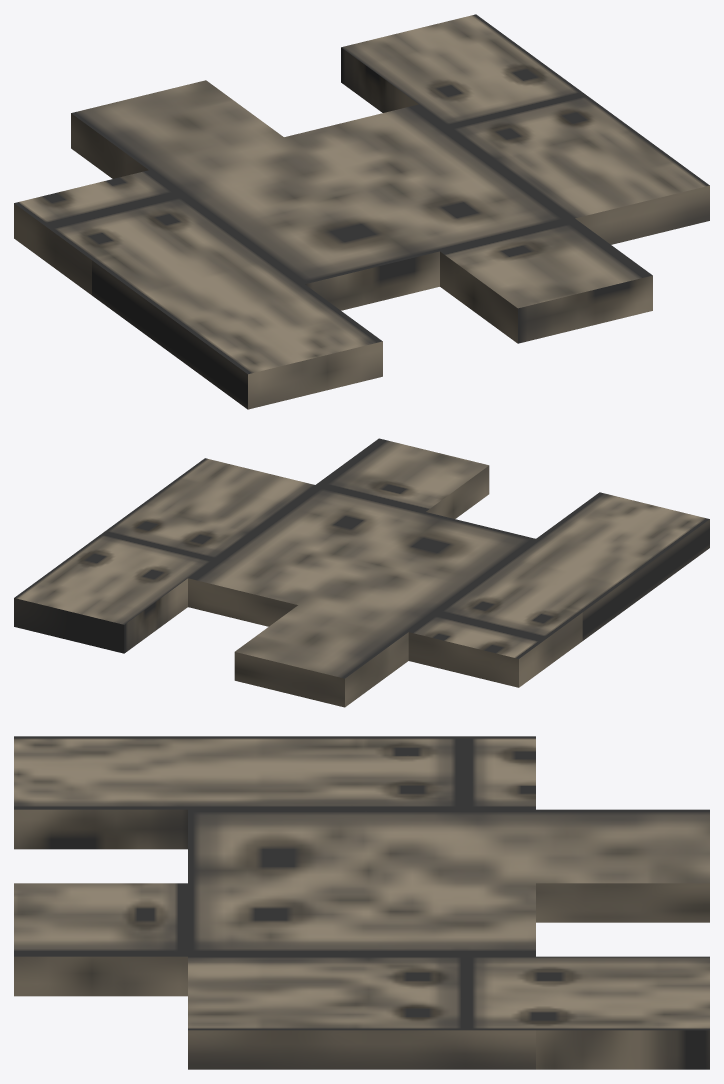
Rendered from Wooden Planks.fbx.
The picture shows the model from 3 angles, top to bottom: view 1: azimuth 30°, elevation 25°; view 2: azimuth 150°, elevation 25°; view 3: azimuth 270°, elevation 25°; orthographic projection. The views are drawn at different scales.
Visible parts, largest first — view 1: Cube; view 2: Cube; view 3: Cube.
Boxes of the visible parts, bbox=[...] form: Cube: bbox=[14, 14, 709, 409]; Cube: bbox=[14, 438, 709, 707]; Cube: bbox=[14, 736, 709, 1069].
Size of the model in its own units: 8 by 8 by 0.5.
